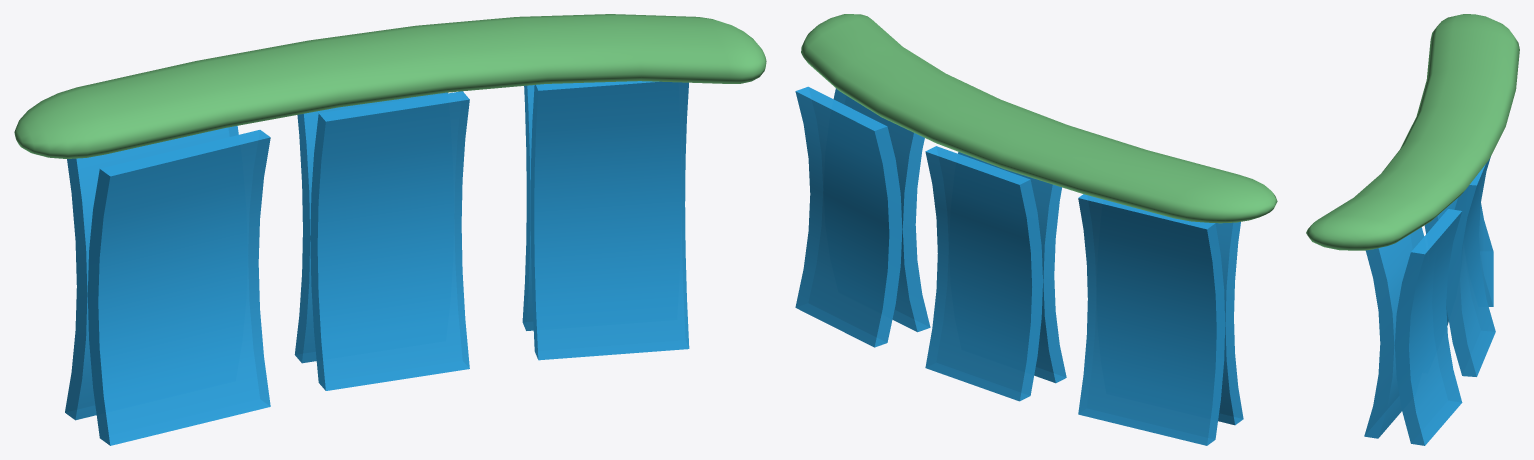
Rendered from Singapore.FBX.
3 views of the same model, side by side, from view 1: azimuth 30°, elevation 25°; view 2: azimuth 150°, elevation 25°; view 3: azimuth 270°, elevation 25° (orthographic). The views are drawn at different scales.
Parts seen in each view (by area): view 1: Capsule001, Box002, Box003, Box005, Box001, Box004, Box006; view 2: Capsule001, Box001, Box004, Box006, Box005, Box003, Box002; view 3: Capsule001, Box006, Box004, Box005, Box001, Box003.
Part boxes in pixels (box(x1,y1,x2,y2)): Capsule001: box(14, 14, 766, 158); Box002: box(87, 130, 270, 445); Box003: box(310, 91, 469, 390); Box005: box(530, 81, 689, 360); Box001: box(65, 126, 238, 420); Box004: box(294, 92, 447, 363); Box006: box(522, 85, 534, 330); Capsule001: box(801, 14, 1277, 223); Box001: box(1078, 194, 1225, 445); Box004: box(925, 146, 1042, 401); Box006: box(795, 86, 902, 347); Box005: box(833, 88, 930, 332); Box003: box(958, 152, 1066, 383); Box002: box(1215, 222, 1243, 425); Capsule001: box(1306, 14, 1519, 250); Box006: box(1394, 209, 1462, 445); Box004: box(1446, 156, 1495, 376); Box005: box(1364, 227, 1424, 438); Box001: box(1479, 203, 1493, 306); Box003: box(1424, 198, 1457, 325).
Size of the model in its own units: 449 by 210 by 179.
